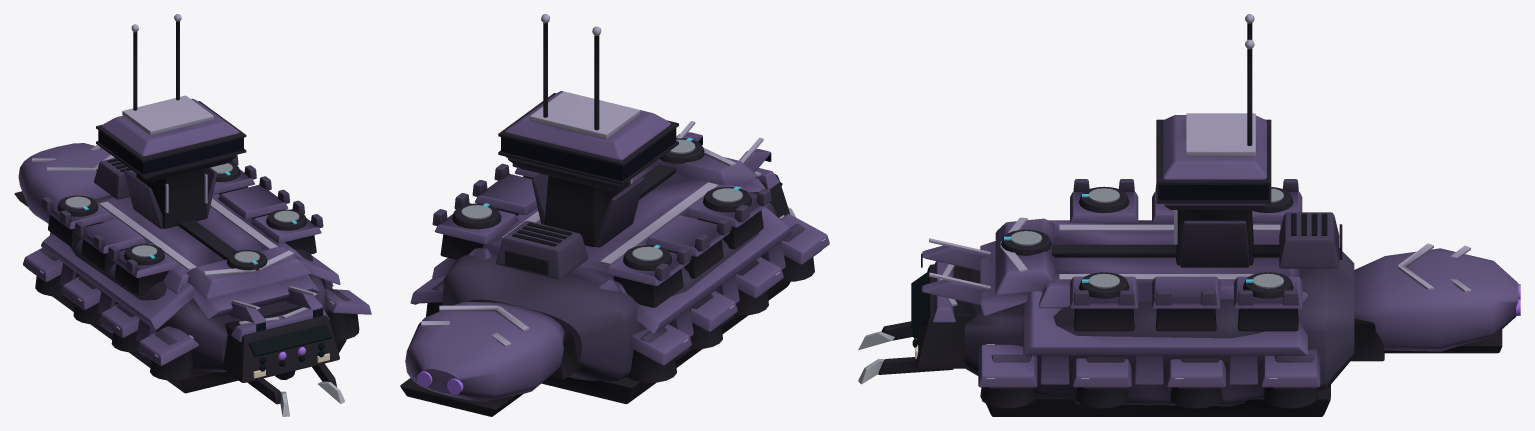
Rendered from ex_strider_9.glb.
3 renders of one model, left to right at view 1: azimuth 30°, elevation 25°; view 2: azimuth 150°, elevation 25°; view 3: azimuth 270°, elevation 25°, orthographic. The views are drawn at different scales.
Visible parts, largest first — view 1: body; view 2: body; view 3: body.
Part boxes in pixels (left/top/right/bottom): body: left=14, top=14, right=371, bottom=416; body: left=400, top=14, right=829, bottom=416; body: left=858, top=14, right=1520, bottom=416.
Bounding box in the file's own units: 7.89 × 9.97 × 17.37.
